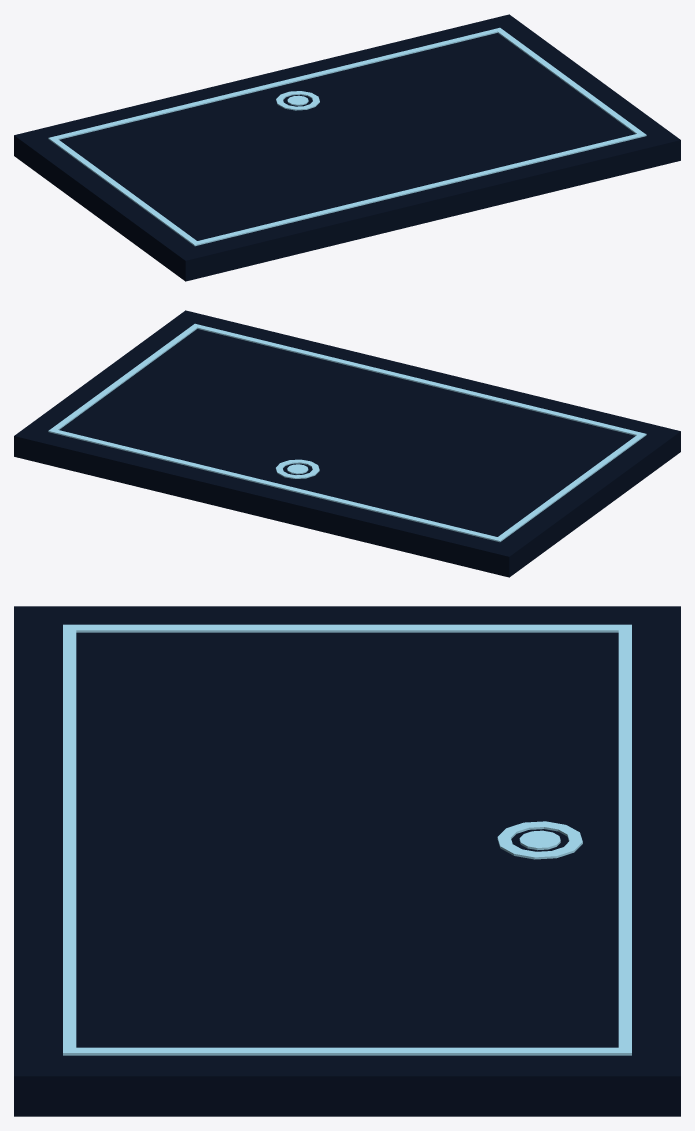
Rendered from W_O_Playground_Finish_B_L1.fbx.
3 views of the same model, one above another, from view 1: azimuth 30°, elevation 25°; view 2: azimuth 150°, elevation 25°; view 3: azimuth 270°, elevation 25° (orthographic). The views are drawn at different scales.
Parts seen in each view (by area): view 1: W_O_Playground_Finish_B_L1; view 2: W_O_Playground_Finish_B_L1; view 3: W_O_Playground_Finish_B_L1.
Boxes of the visible parts, x1=… form: W_O_Playground_Finish_B_L1: x1=14, y1=14, x2=680, y2=281; W_O_Playground_Finish_B_L1: x1=14, y1=310, x2=680, y2=577; W_O_Playground_Finish_B_L1: x1=14, y1=606, x2=680, y2=1116.
Size of the model in its own units: 5 by 0.2121 by 3.
